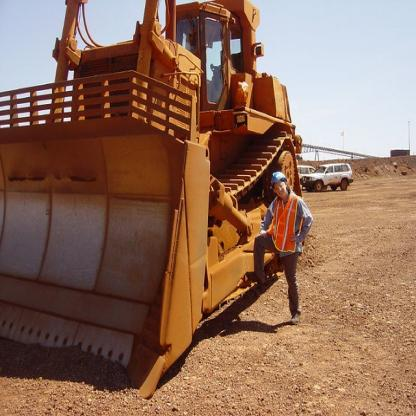bull_dozer/loader/grader: (6, 0, 316, 388)
light_vehicle: (303, 155, 361, 196)
person: (254, 165, 312, 329)
